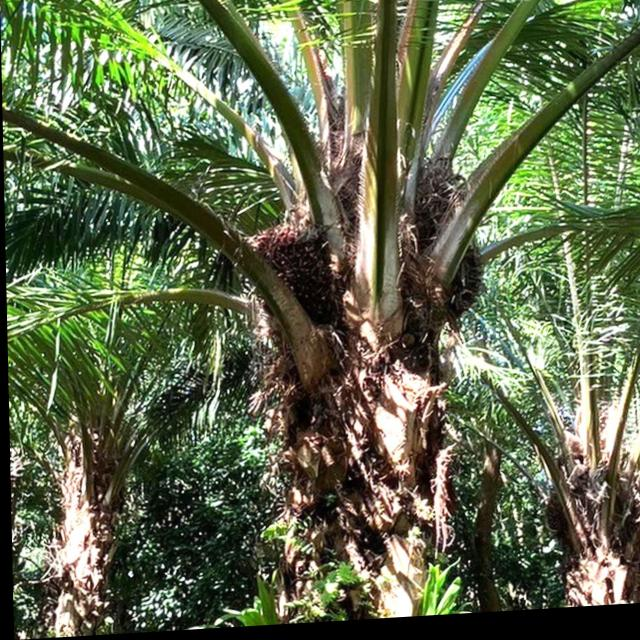ripe: (247, 225, 339, 324)
